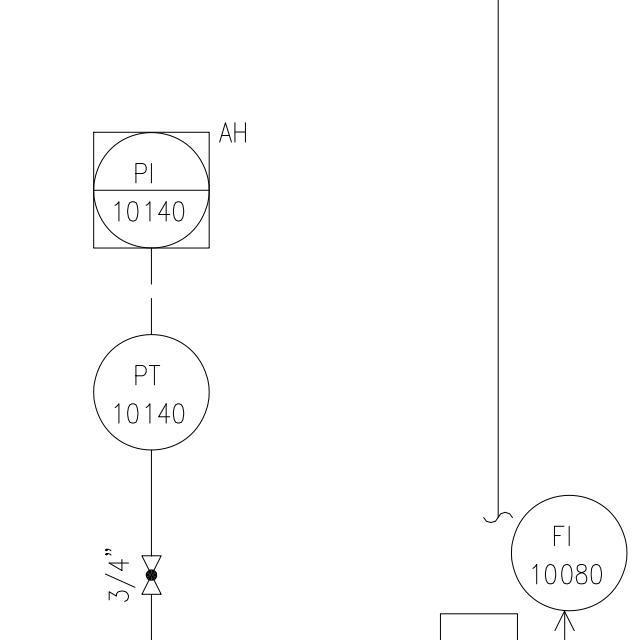BV2: (138, 550, 164, 600)
